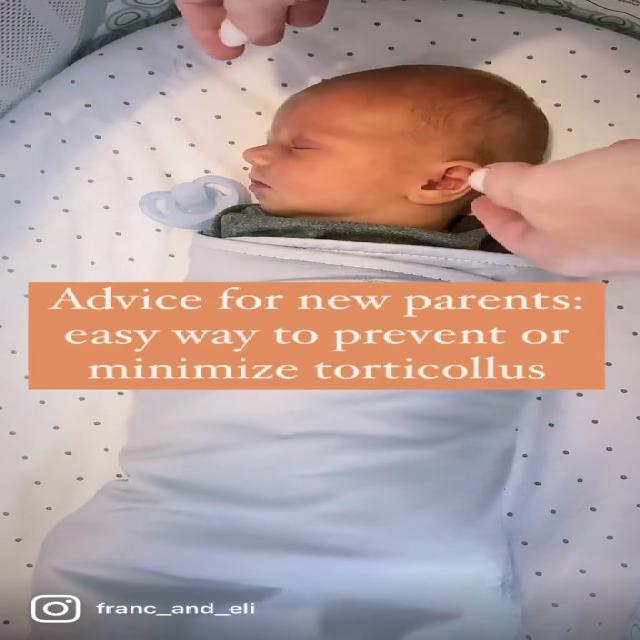baby: (26, 55, 552, 640)
